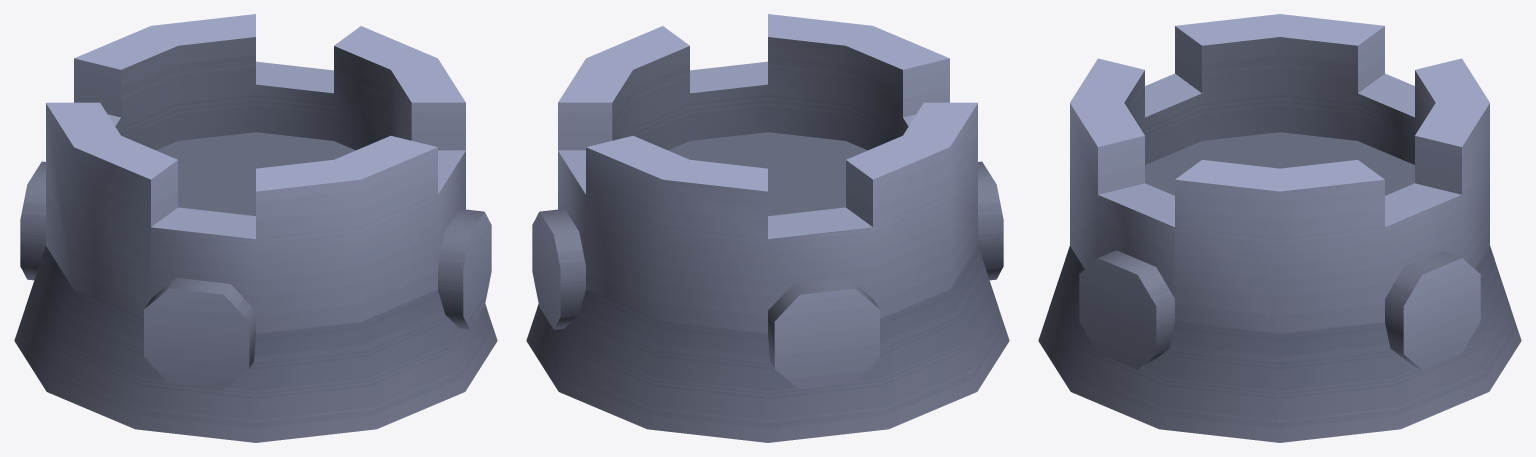
File: tower-defense-kit--tower-round-top-a.glb
3 renders of one model, left to right at view 1: azimuth 30°, elevation 25°; view 2: azimuth 150°, elevation 25°; view 3: azimuth 270°, elevation 25°, orthographic.
Parts seen in each view (by area): view 1: tower-round-top-a; view 2: tower-round-top-a; view 3: tower-round-top-a.
Part boxes in pixels (bbox=[...]): tower-round-top-a: bbox=[14, 14, 497, 442]; tower-round-top-a: bbox=[526, 14, 1009, 442]; tower-round-top-a: bbox=[1038, 14, 1521, 442].
Size of the model in its own units: 0.92 by 0.5 by 0.92.
Materials: 1 (1 with a texture image).
